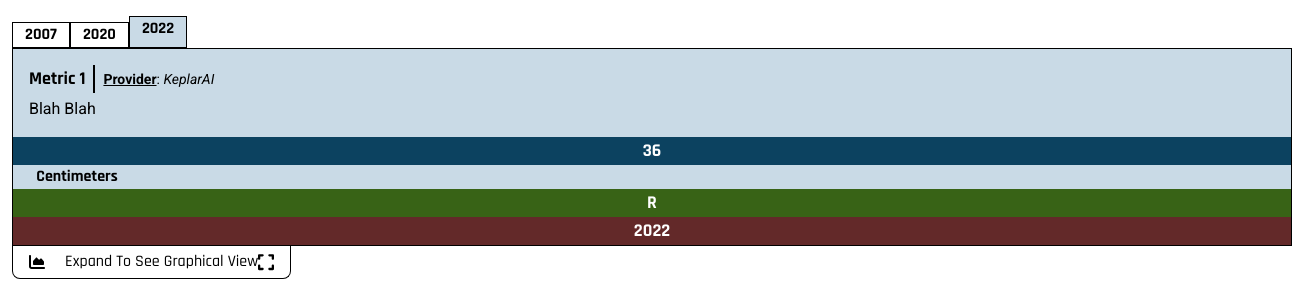
it: MetricCard › renders correct measurement details when switching tabs
The width and height of the screenshot is (1292, 296).
Click the button with test id "metric-tab" showing "2007" at (41, 35), box x1=12 y1=22 x2=70 y2=48
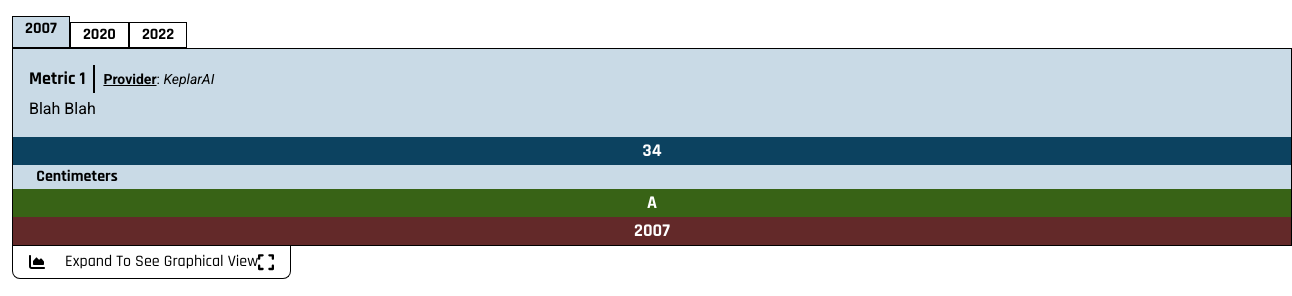
expect the text with test id "metric-value" reads "34": met, box x1=642 y1=139 x2=661 y2=162
expect the text with test id "metric-report-date" reads "2007": met, box x1=634 y1=219 x2=670 y2=242
